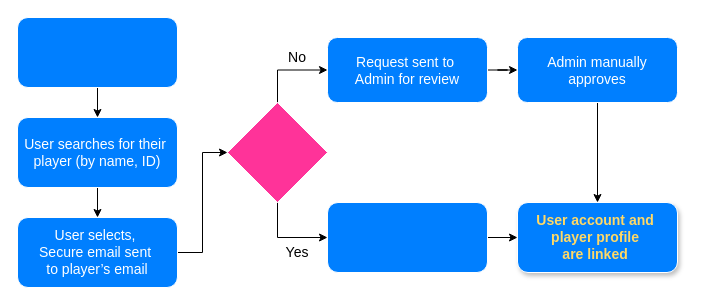
Some shapes in this 701 by 305 pixel diagram are drawn without their labels. Here are the shapes that lost their labels. From the top down, the centre of each, then its label:
(97,52): User clicks “Link Player Profile” on their Profile
(277,152): Email Exists?
(407,237): Player approves by clicking unique link
